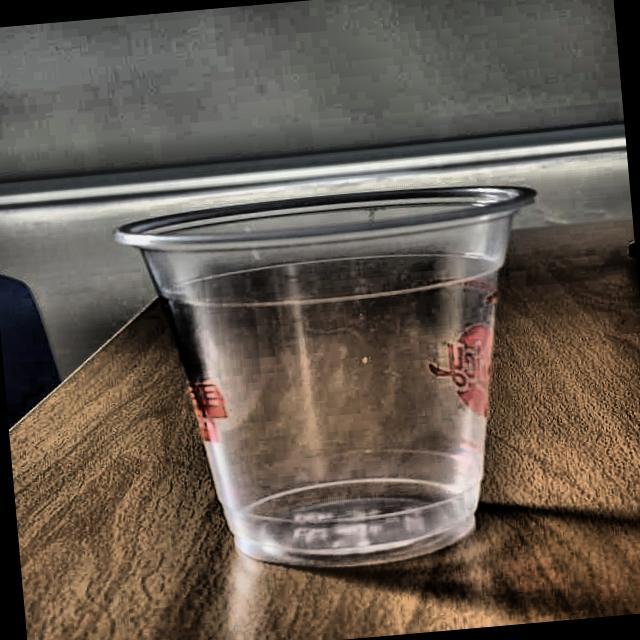plastic cup: (112, 173, 574, 586)
